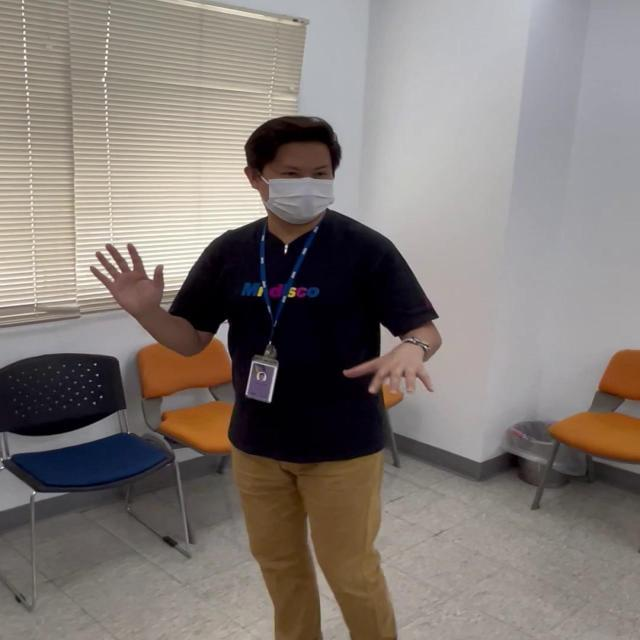bare_hand: (88, 238, 167, 315), (345, 338, 437, 402)
